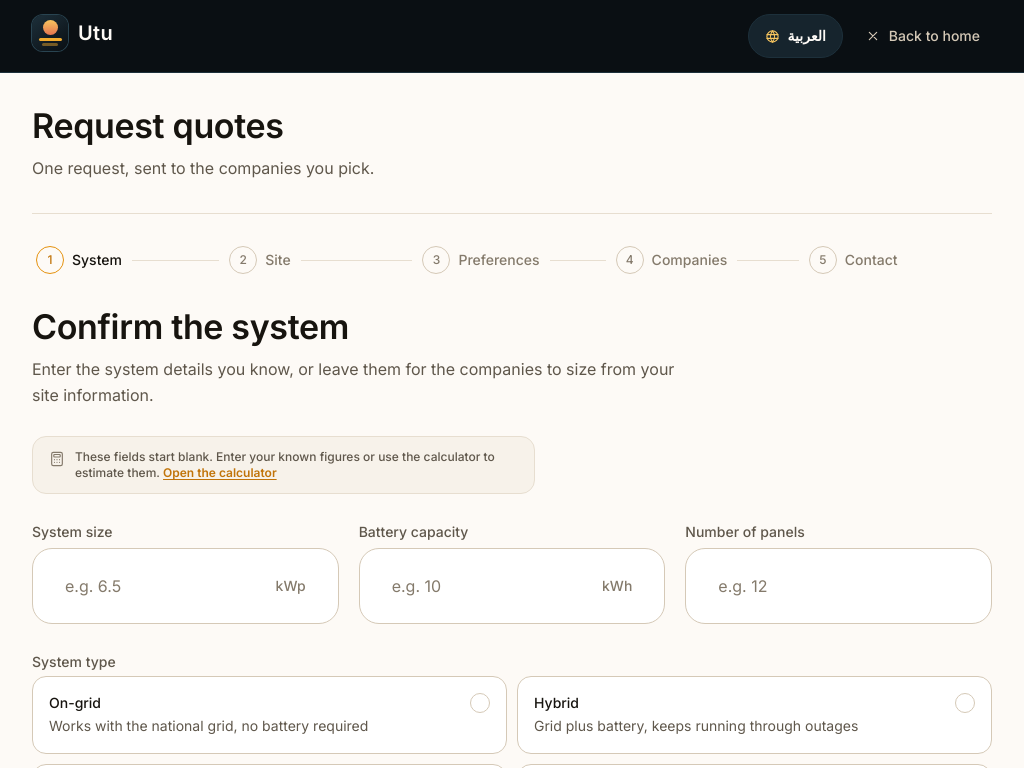
Scenario: RequestQuotePage › moves forward and back without losing entered values
Type "6.2" into the number field labelled "System size" at (157, 586), box [49,561,266,611]
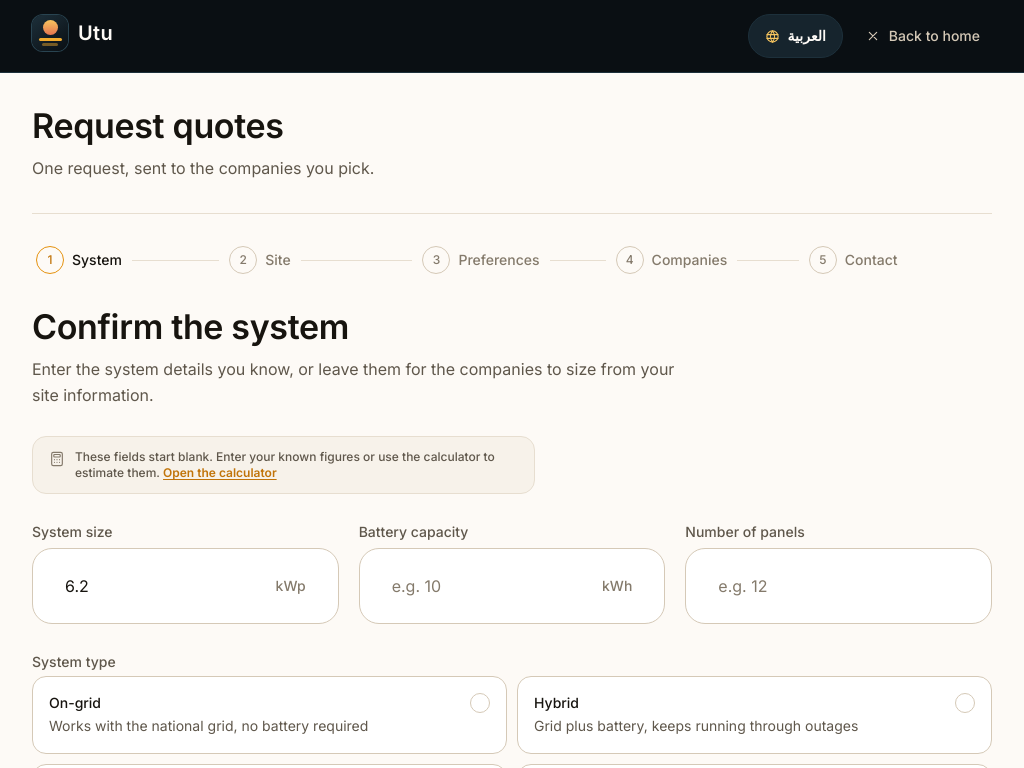
Type "9" into the number field labelled "Number of panels" at (839, 586), box [702,561,975,611]
(page scrolled)
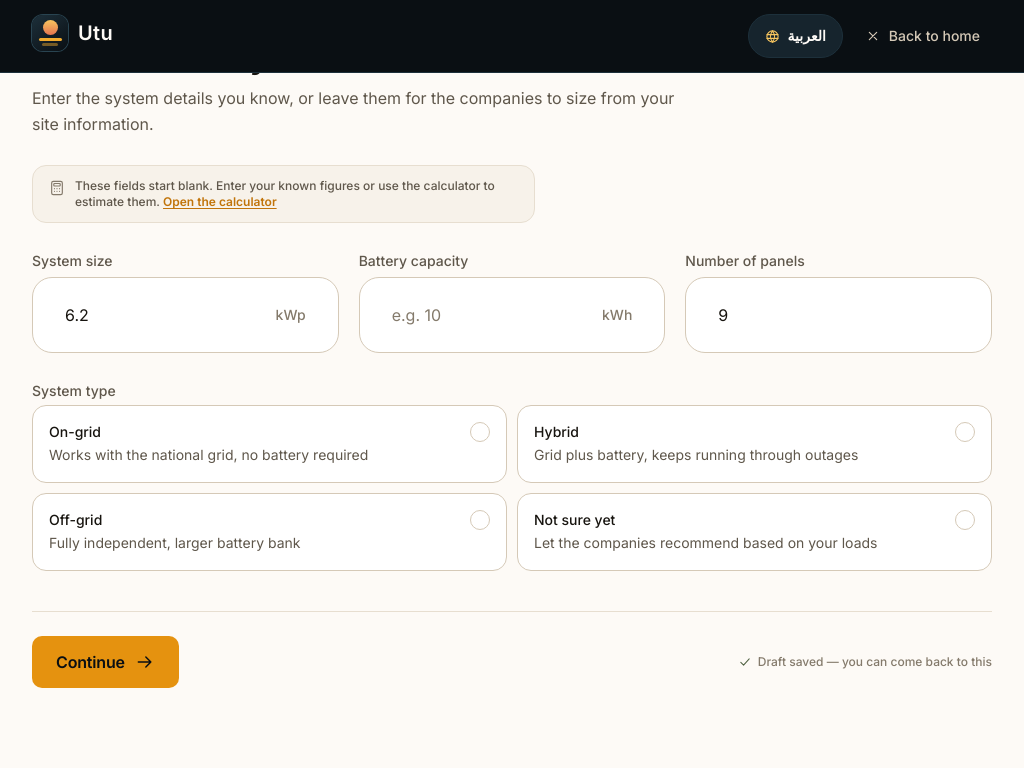
Click the button "Continue" at (105, 662), box [32,636,179,688]
(page scrolled)
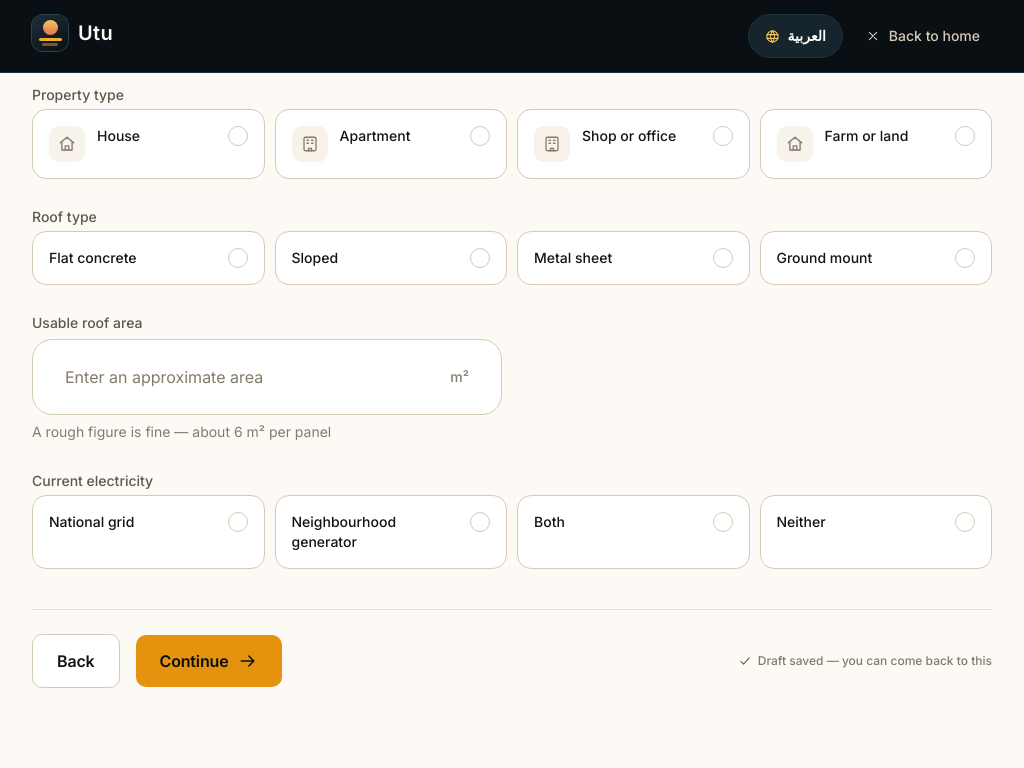
Click the button "Back" at (76, 661), box [32,634,120,688]
(page scrolled)
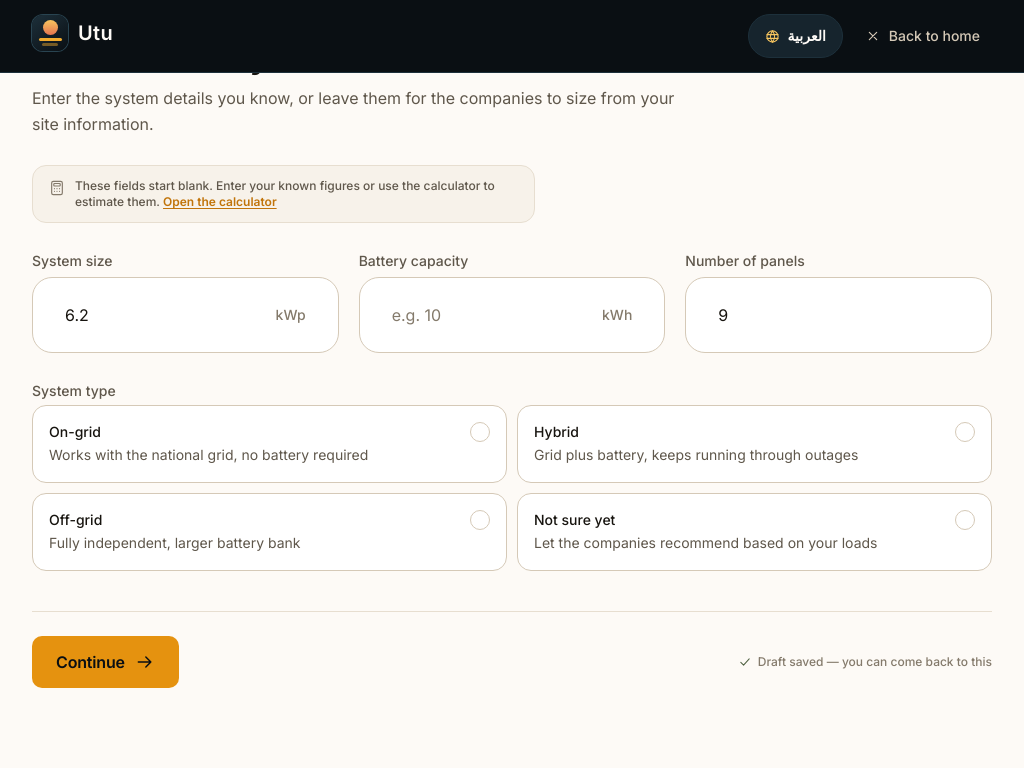
Expected: the number field labelled "System size" holds "6.2", [49,290,266,340]
Expected: the number field labelled "Number of panels" holds "9", [702,290,975,340]
